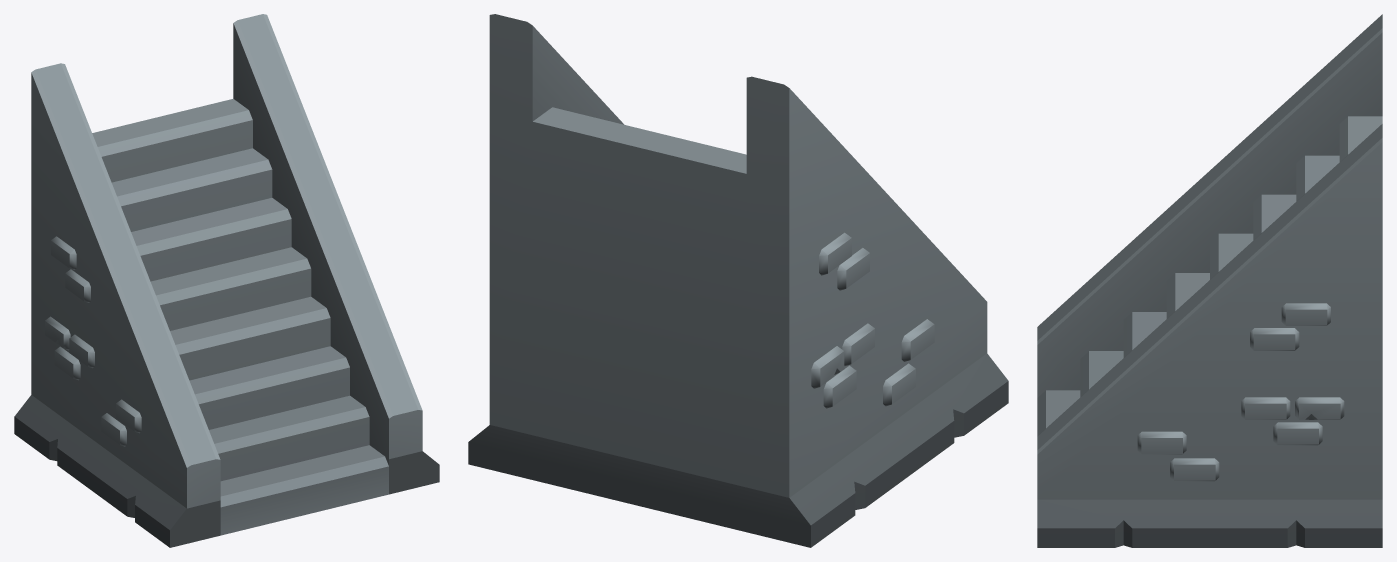
File: stairs_narrow.gltf
3 renders of one model, left to right at view 1: azimuth 30°, elevation 25°; view 2: azimuth 150°, elevation 25°; view 3: azimuth 270°, elevation 25°, orthographic. The views are drawn at different scales.
Parts seen in each view (by area): view 1: stairs_narrow; view 2: stairs_narrow; view 3: stairs_narrow.
Boxes of the visible parts, <box> form: stairs_narrow: <box>14,14,439,547</box>; stairs_narrow: <box>468,14,1008,547</box>; stairs_narrow: <box>1037,14,1382,547</box>.
Size of the model in its own units: 4 by 5.1 by 4.
1 material, 1 textured.
